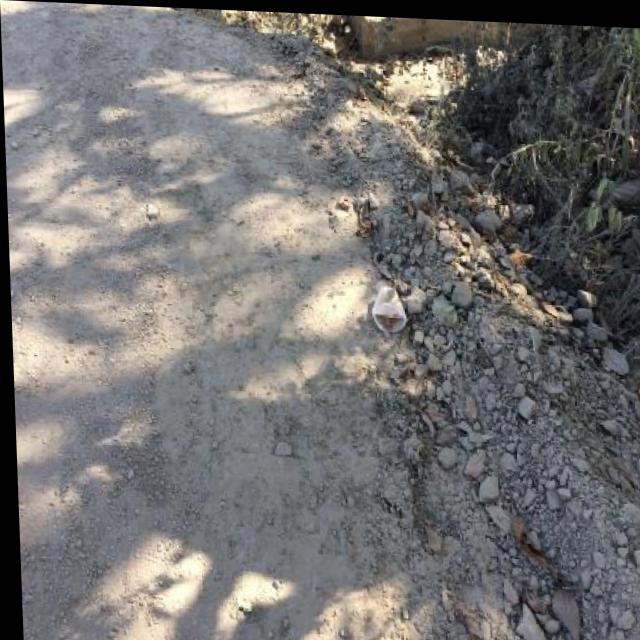cardboard: (369, 286, 407, 334)
